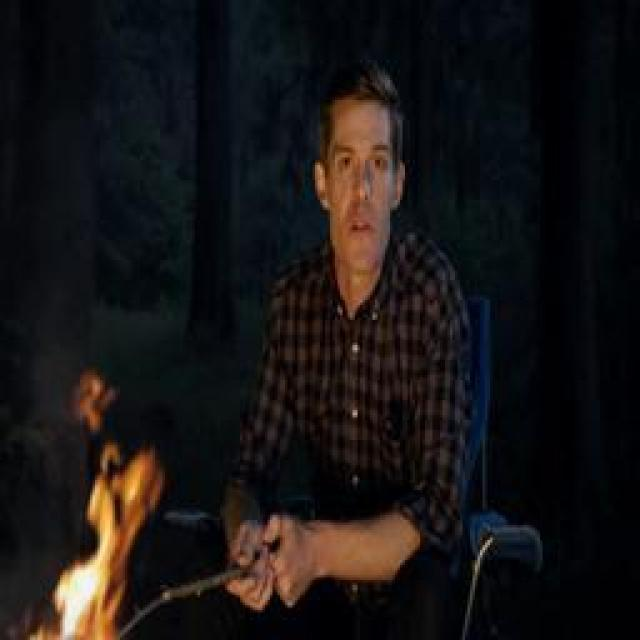Fire: (25, 380, 165, 640)
